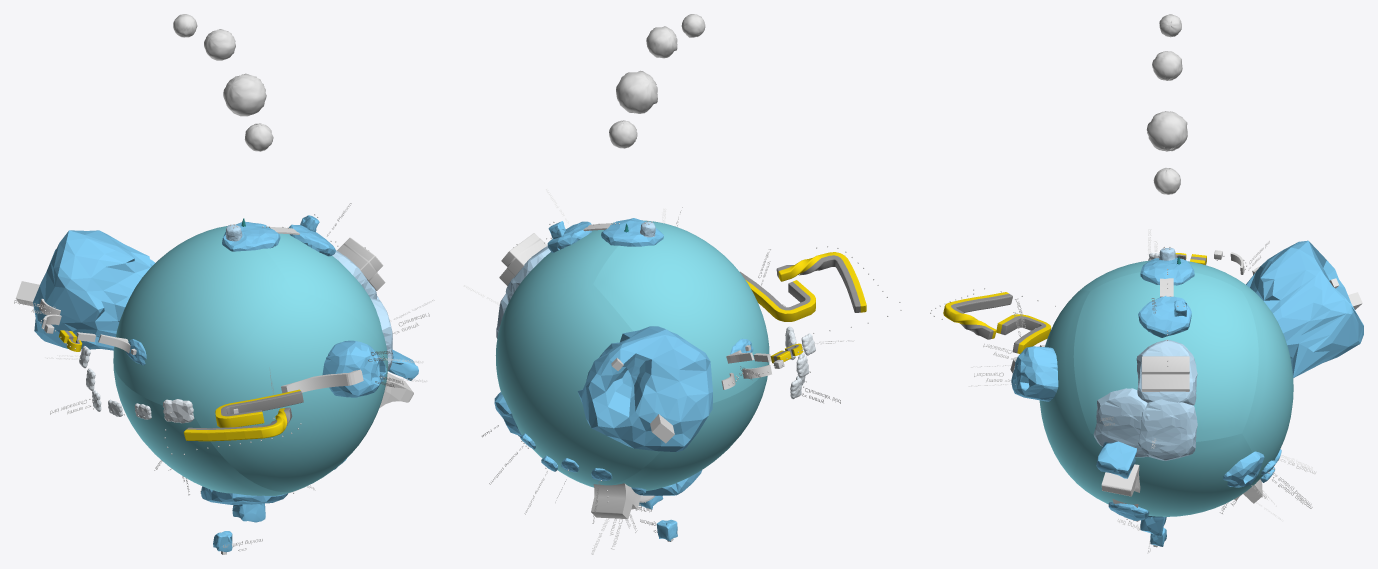
File: nivel.FBX
The picture shows the model from 3 angles, left to right: view 1: azimuth 30°, elevation 25°; view 2: azimuth 150°, elevation 25°; view 3: azimuth 270°, elevation 25°; orthographic projection. The views are drawn at different scales.
Visible parts, largest first — view 1: PROP_Liquid01_1, PROP_Liquid01_2, PROP_Ice_FlyingIsland016, PROP_Liquid01_6, PROP_Liquid01_3, PROP_Ice_FlyingIsland013, Sphere002, Box007, PROP_Ice_FlyingIsland01, Box004, Box005, Box010 (+11 smaller); view 2: PROP_Liquid01_4, PROP_Liquid01_2, PROP_Ice_FlyingIsland016, PROP_Liquid01_6, PROP_Liquid01_3, Sphere002, Cylinder003, PROP_Ice_FlyingIsland01, Box004, Box008, Box007, Box009 (+5 smaller); view 3: PROP_Liquid01_3, PROP_Ice_FlyingIsland016, PROP_Liquid01_5, PROP_Liquid01_4, PROP_Liquid01_1, PROP_Ice_FloorS007, PROP_Ice_FloorS008, PROP_Ice_FlyingIsland013, Box004, PROP_Ice_FloorS005, PROP_Ice_FlyingIsland003, Sphere002 (+11 smaller).
Part boxes in pixels (x1,y1,x2,y2): PROP_Liquid01_1: (193, 288, 387, 492); PROP_Liquid01_2: (113, 227, 290, 413); PROP_Ice_FlyingIsland016: (33, 230, 154, 350); PROP_Liquid01_6: (113, 363, 289, 495); PROP_Liquid01_3: (219, 226, 387, 365); PROP_Ice_FlyingIsland013: (322, 340, 386, 397); Sphere002: (223, 73, 266, 116); Box007: (183, 408, 287, 441); PROP_Ice_FlyingIsland01: (222, 221, 280, 251); Box004: (337, 237, 385, 290); Box005: (281, 369, 363, 393); Box010: (221, 391, 303, 416); PROP_Liquid01_4: (496, 284, 660, 486); PROP_Liquid01_2: (593, 223, 769, 402); PROP_Ice_FlyingIsland016: (577, 326, 712, 451); PROP_Liquid01_6: (593, 362, 769, 490); PROP_Liquid01_3: (495, 220, 660, 360); Sphere002: (616, 70, 657, 113); Cylinder003: (591, 483, 641, 519); PROP_Ice_FlyingIsland01: (601, 218, 663, 246); Box004: (499, 233, 547, 285); Box008: (745, 280, 815, 321); Box007: (778, 252, 866, 312); Box009: (776, 255, 860, 312); PROP_Liquid01_3: (1073, 272, 1258, 441); PROP_Ice_FlyingIsland016: (1246, 240, 1363, 377); PROP_Liquid01_5: (1073, 433, 1258, 516); PROP_Liquid01_4: (1242, 290, 1293, 481); PROP_Liquid01_1: (1039, 290, 1090, 480); PROP_Ice_FloorS007: (1138, 399, 1197, 460); PROP_Ice_FloorS008: (1093, 388, 1149, 457); PROP_Ice_FlyingIsland013: (1011, 346, 1058, 401); Box004: (1141, 356, 1189, 391); PROP_Ice_FloorS005: (1136, 340, 1197, 405); PROP_Ice_FlyingIsland003: (1138, 296, 1191, 337); Sphere002: (1146, 111, 1187, 151).
Size of the model in its own units: 12379 by 16388 by 12477.
